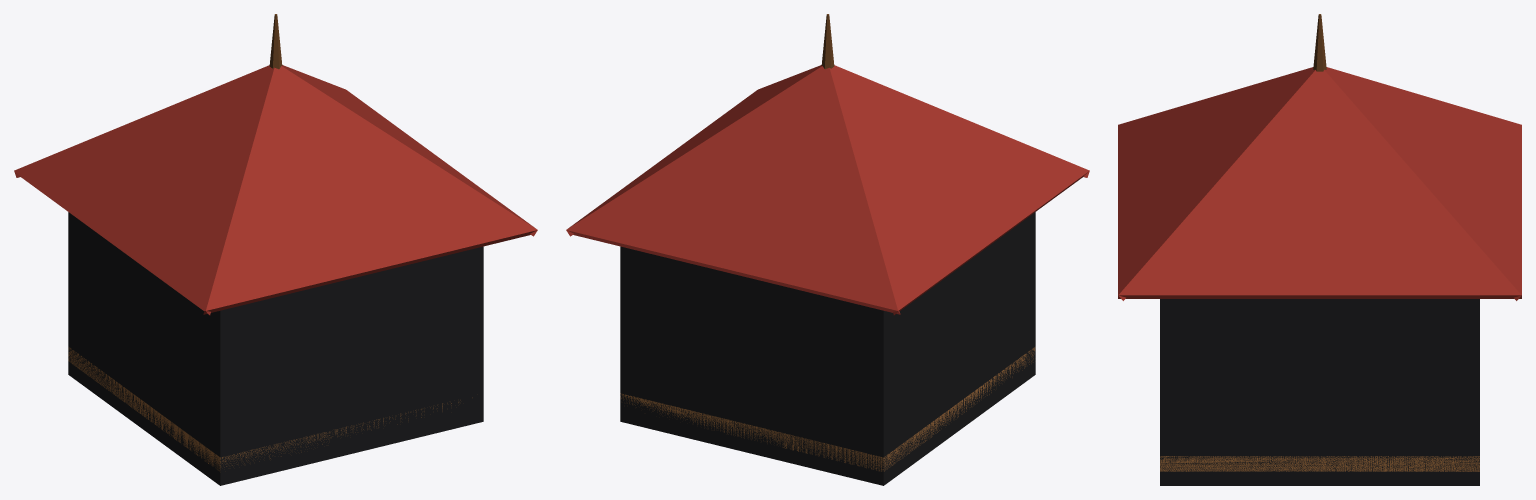
The model's file is env_pbg_gazebo.fbx.
3 renders of one model, left to right at view 1: azimuth 30°, elevation 25°; view 2: azimuth 150°, elevation 25°; view 3: azimuth 270°, elevation 25°, orthographic. The views are drawn at different scales.
Parts seen in each view (by area): view 1: env_pbg_gazebo_geo, COL_env_pbg_gazebo; view 2: env_pbg_gazebo_geo, COL_env_pbg_gazebo; view 3: env_pbg_gazebo_geo, COL_env_pbg_gazebo.
Boxes of the visible parts, bbox=[...] form: env_pbg_gazebo_geo: bbox=[14, 14, 537, 471]; COL_env_pbg_gazebo: bbox=[68, 212, 483, 485]; env_pbg_gazebo_geo: bbox=[566, 14, 1089, 471]; COL_env_pbg_gazebo: bbox=[620, 212, 1035, 485]; env_pbg_gazebo_geo: bbox=[1118, 14, 1521, 471]; COL_env_pbg_gazebo: bbox=[1160, 299, 1479, 485].
Size of the model in its own units: 5.8 by 6.4 by 5.8.
